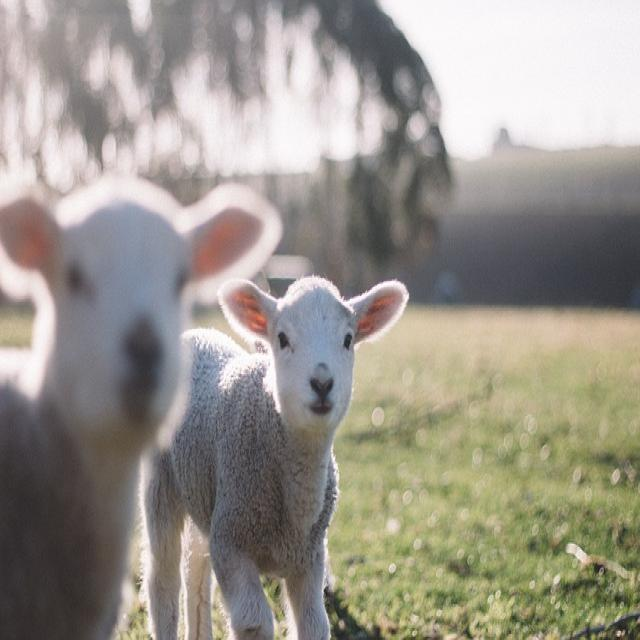goat: (0, 183, 261, 640), (142, 276, 411, 640)
